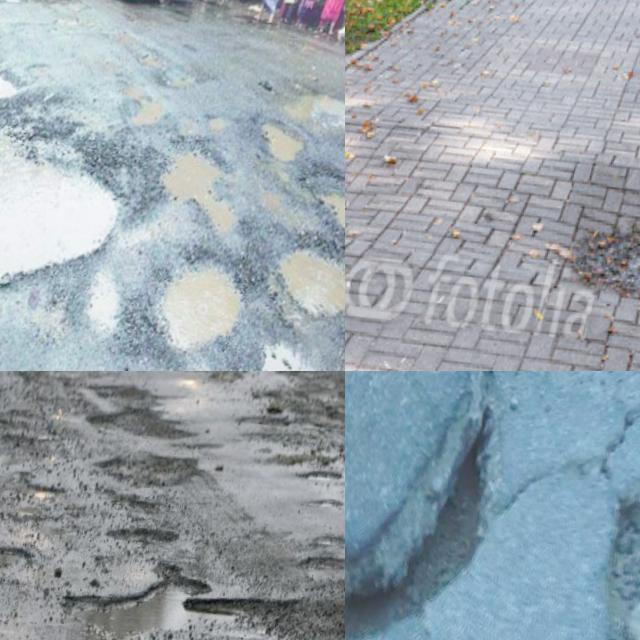Potholes: (345, 371, 539, 640), (0, 57, 166, 359), (45, 520, 292, 640), (136, 112, 293, 270), (64, 437, 219, 578), (45, 371, 207, 504), (125, 247, 283, 371), (567, 433, 640, 640), (559, 179, 640, 357), (251, 221, 345, 369), (233, 386, 344, 492), (0, 470, 98, 576), (0, 506, 66, 635), (219, 314, 345, 371), (295, 152, 345, 295), (275, 74, 345, 167), (0, 31, 58, 140), (0, 371, 51, 481), (0, 371, 122, 403)
